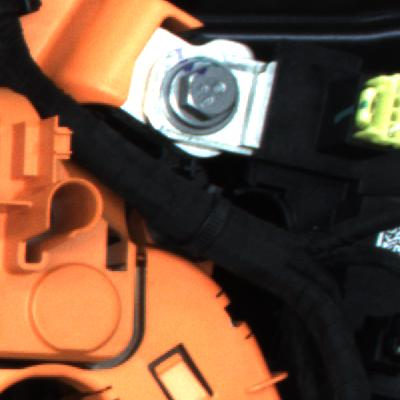nut_b: (147, 61, 253, 136)
